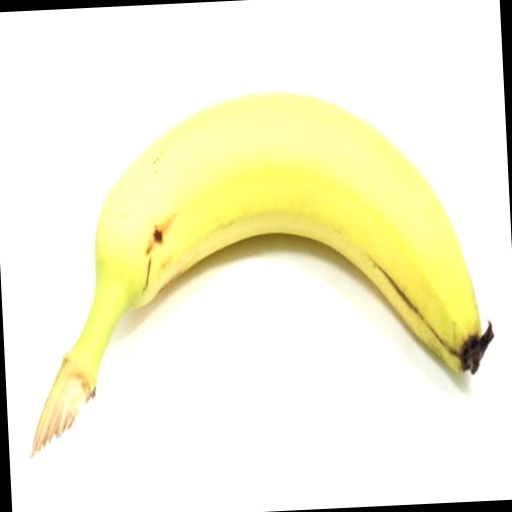fruit: (15, 223, 84, 512)
